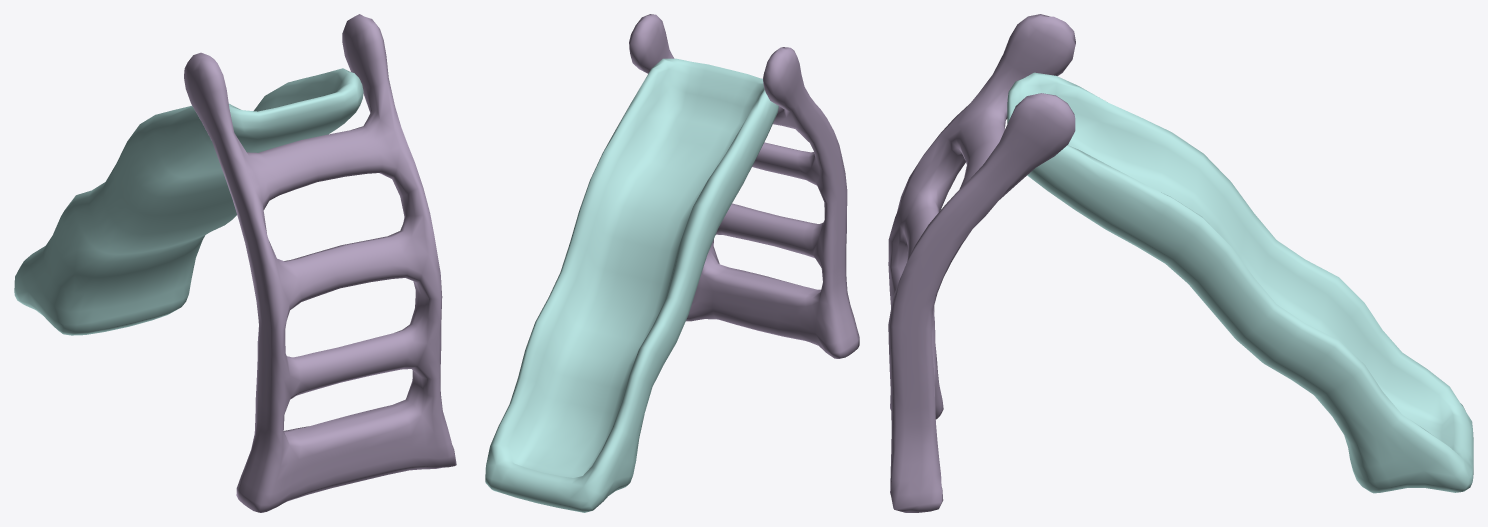
The model's file is SM_Escorrega_B.fbx.
3 renders of one model, left to right at view 1: azimuth 30°, elevation 25°; view 2: azimuth 150°, elevation 25°; view 3: azimuth 270°, elevation 25°, orthographic. The views are drawn at different scales.
Parts seen in each view (by area): view 1: Merged_Cube_003.004; view 2: Merged_Cube_003.004; view 3: Merged_Cube_003.004.
Part boxes in pixels (<box>): Merged_Cube_003.004: <box>14,14,456,512</box>; Merged_Cube_003.004: <box>485,14,859,512</box>; Merged_Cube_003.004: <box>888,14,1473,512</box>.
Size of the model in its own units: 2.15 by 4.16 by 5.32.
